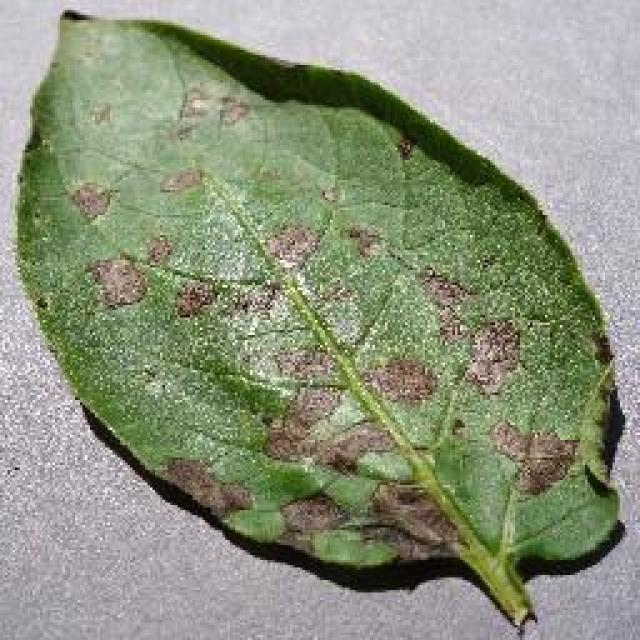green waste: (17, 0, 636, 635)
